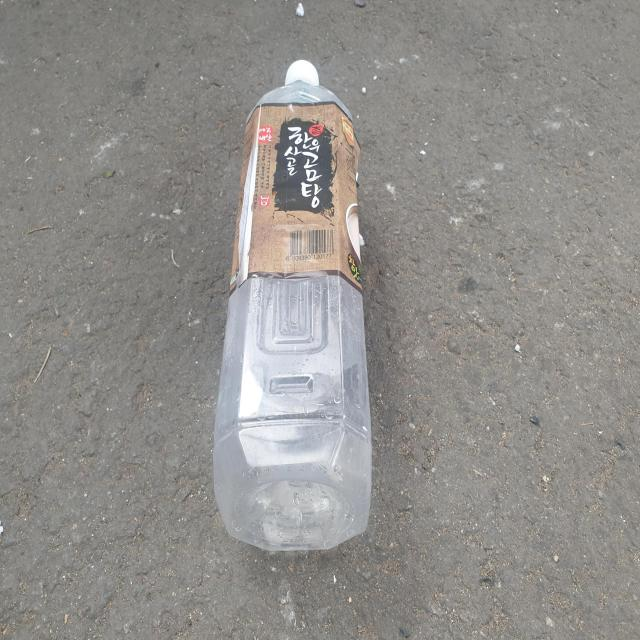plastic: (213, 60, 371, 551)
